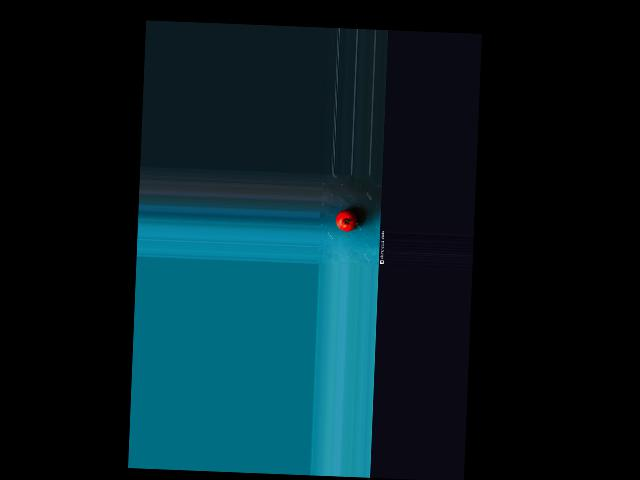tomato: (335, 209, 358, 231)
